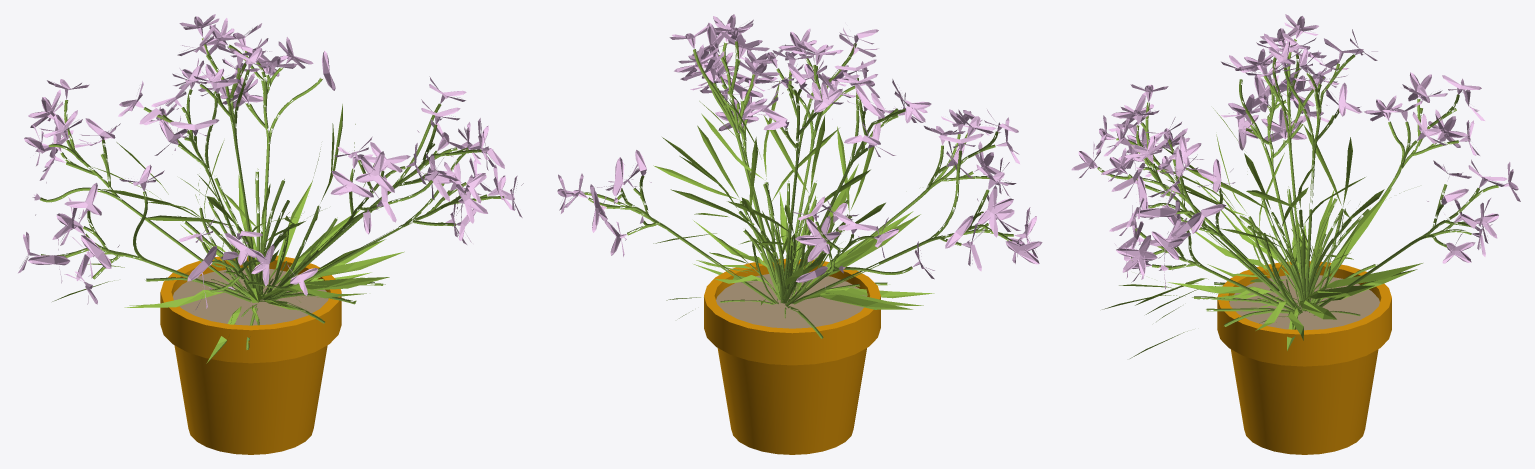
The model's file is flower.glb.
3 views of the same model, side by side, from view 1: azimuth 30°, elevation 25°; view 2: azimuth 150°, elevation 25°; view 3: azimuth 270°, elevation 25° (orthographic). The views are drawn at different scales.
Parts seen in each view (by area): view 1: Flowers, Pot, Stems, Tube002, Grass; view 2: Flowers, Pot, Stems, Grass, Tube002; view 3: Flowers, Pot, Stems, Grass, Tube002.
Boxes of the visible parts, x1=… form: Flowers: x1=18, y1=14, x2=523, y2=309; Pot: x1=173, y1=268, x2=328, y2=454; Stems: x1=40, y1=38, x2=504, y2=349; Tube002: x1=160, y1=255, x2=341, y2=363; Grass: x1=52, y1=104, x2=404, y2=363; Flowers: x1=557, y1=14, x2=1042, y2=288; Pot: x1=716, y1=274, x2=866, y2=454; Stems: x1=582, y1=41, x2=1013, y2=338; Grass: x1=653, y1=81, x2=934, y2=318; Tube002: x1=704, y1=258, x2=880, y2=365; Flowers: x1=1071, y1=14, x2=1520, y2=289; Pot: x1=1229, y1=275, x2=1379, y2=454; Stems: x1=1097, y1=39, x2=1498, y2=326; Grass: x1=1102, y1=108, x2=1422, y2=358; Tube002: x1=1217, y1=261, x2=1391, y2=366.
Bounding box in the file's own units: 72.09 × 64.24 × 67.68.
